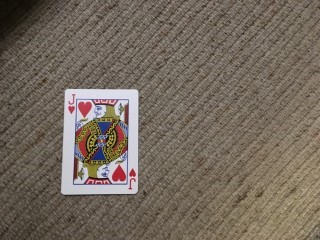JackOfHearts: (60, 89, 138, 194)
